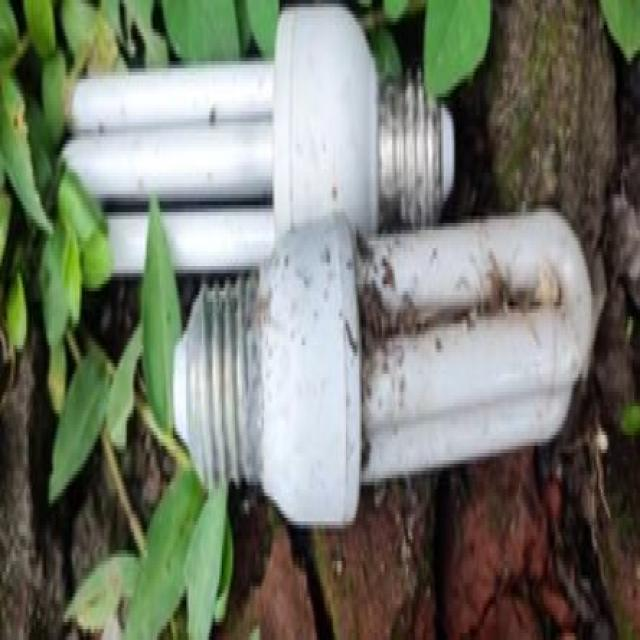electronic: (58, 0, 596, 529), (170, 202, 595, 528), (58, 0, 456, 277)
